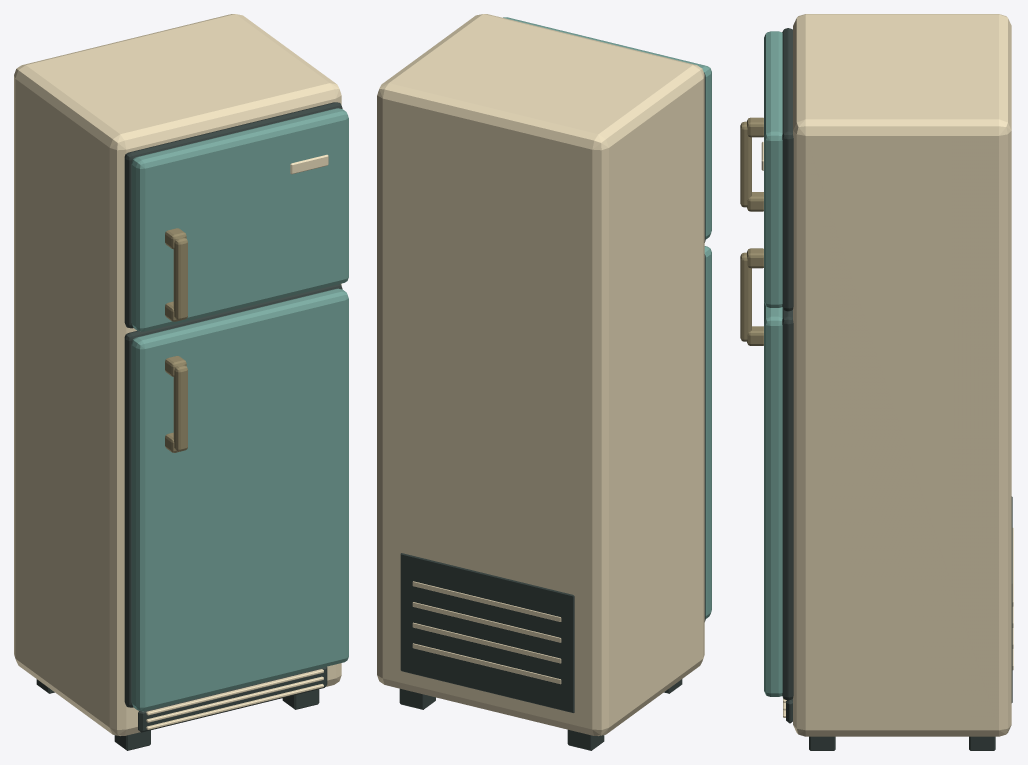
The picture shows the model from 3 angles, left to right: view 1: azimuth 30°, elevation 25°; view 2: azimuth 150°, elevation 25°; view 3: azimuth 270°, elevation 25°; orthographic projection. The views are drawn at different scales.
Parts seen in each view (by area): view 1: Body_rounded_ivory_shell, Refrigerator_closed_front_face, Freezer_closed_front_face, Refrigerator_perimeter_seal, Freezer_perimeter_seal, Kick_recess_backing, Refrigerator_vertical_handle, Freezer_vertical_handle, Kick_louvre_03, Kick_louvre_02, Kick_louvre_01; view 2: Body_rounded_ivory_shell, Rear_service_cover, Refrigerator_closed_front_face, Freezer_closed_front_face, Rear_cover_rib_04, Rear_cover_rib_01, Rear_cover_rib_03, Rear_cover_rib_02, Refrigerator_perimeter_seal; view 3: Body_rounded_ivory_shell, Refrigerator_closed_front_face, Freezer_closed_front_face, Refrigerator_perimeter_seal, Freezer_perimeter_seal, Refrigerator_vertical_handle, Freezer_vertical_handle.
Boxes of the visible parts, box(x1,y1,x2,y2) form: Body_rounded_ivory_shell: box(14, 14, 341, 735); Refrigerator_closed_front_face: box(131, 288, 348, 711); Freezer_closed_front_face: box(131, 108, 348, 331); Refrigerator_perimeter_seal: box(124, 284, 342, 707); Freezer_perimeter_seal: box(124, 102, 342, 328); Kick_recess_backing: box(138, 666, 327, 732); Refrigerator_vertical_handle: box(173, 365, 187, 451); Freezer_vertical_handle: box(173, 237, 187, 320); Kick_louvre_03: box(146, 669, 323, 715); Kick_louvre_02: box(146, 676, 323, 722); Kick_louvre_01: box(146, 684, 323, 729); Body_rounded_ivory_shell: box(377, 14, 704, 735); Rear_service_cover: box(400, 553, 574, 712); Refrigerator_closed_front_face: box(704, 246, 711, 618); Freezer_closed_front_face: box(503, 17, 711, 239); Rear_cover_rib_04: box(412, 581, 561, 621); Rear_cover_rib_01: box(412, 643, 561, 684); Rear_cover_rib_03: box(412, 602, 561, 642); Rear_cover_rib_02: box(412, 622, 561, 663); Refrigerator_perimeter_seal: box(704, 254, 705, 621); Body_rounded_ivory_shell: box(793, 14, 1011, 736); Refrigerator_closed_front_face: box(764, 302, 782, 696); Freezer_closed_front_face: box(764, 31, 782, 307); Refrigerator_perimeter_seal: box(782, 308, 793, 700); Freezer_perimeter_seal: box(782, 28, 793, 311); Refrigerator_vertical_handle: box(740, 252, 751, 341); Freezer_vertical_handle: box(740, 121, 751, 207).
Size of the model in its own units: 0.7 by 1.8 by 0.7.
